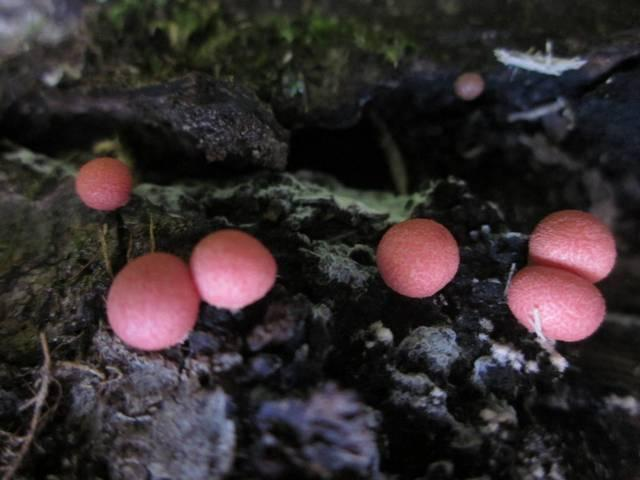poisonous_mushroom: (104, 250, 200, 351), (505, 264, 606, 344), (189, 227, 277, 313), (375, 216, 460, 299), (526, 207, 617, 283), (74, 155, 132, 212)
